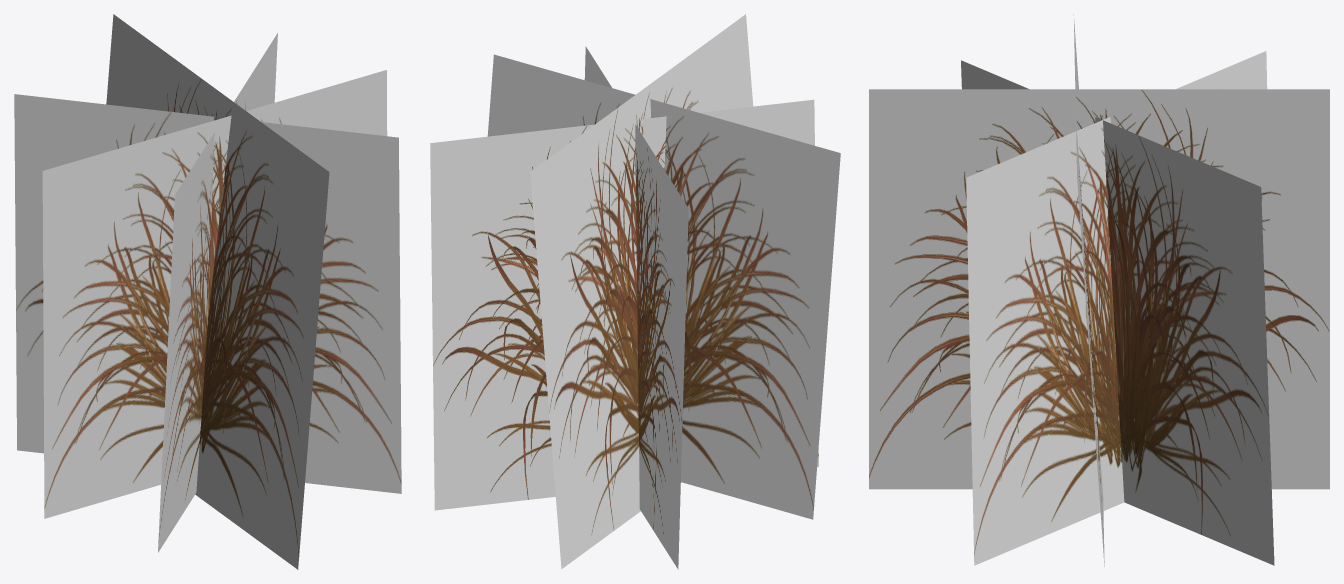
File: e_dry_grass_1.fbx
3 views of the same model, side by side, from view 1: azimuth 30°, elevation 25°; view 2: azimuth 150°, elevation 25°; view 3: azimuth 270°, elevation 25° (orthographic). The views are drawn at different scales.
Visible parts, largest first — view 1: e_dry_grass_1; view 2: e_dry_grass_1; view 3: e_dry_grass_1.
Boxes of the visible parts, box(x1,y1,x2,y2) form: e_dry_grass_1: box(14, 14, 401, 569); e_dry_grass_1: box(430, 14, 840, 569); e_dry_grass_1: box(869, 14, 1329, 566).
Size of the model in its own units: 45.28 by 46.84 by 47.
1 material, 1 textured.
